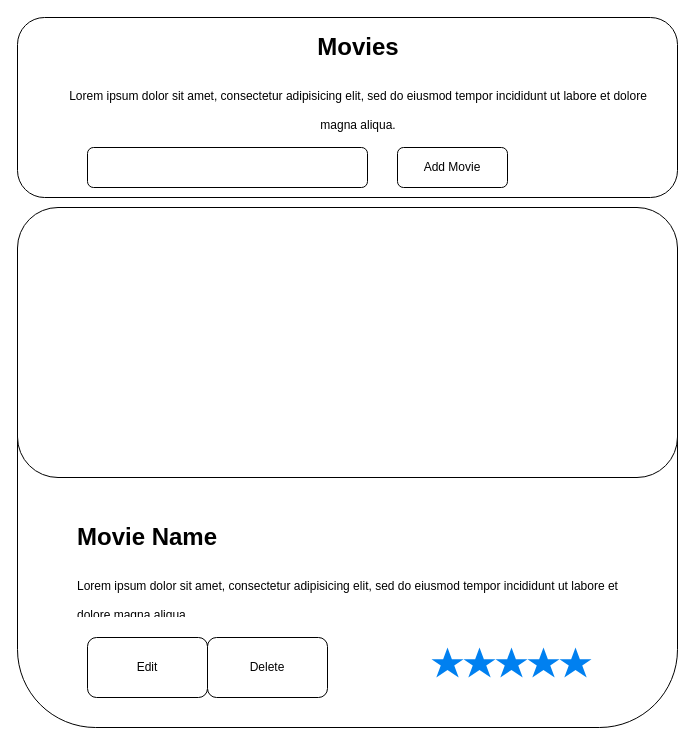
Some shapes in this 695 by 745 pixel diagram are drawn without their labels. Here are the shapes that lost their labels. From the top down, the box of each, then its label:
(86, 146, 368, 188): Search Movie
(16, 206, 678, 478): Thumbnail
